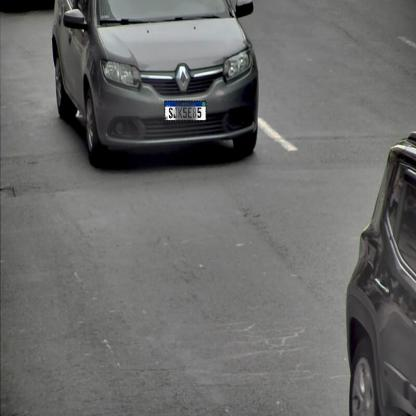PlacaM: (165, 100, 206, 122)
